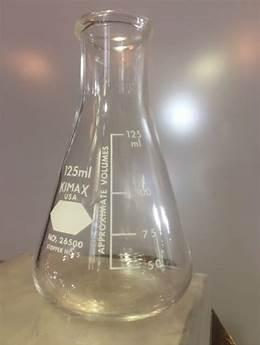Titrarion: (21, 4, 198, 317)
